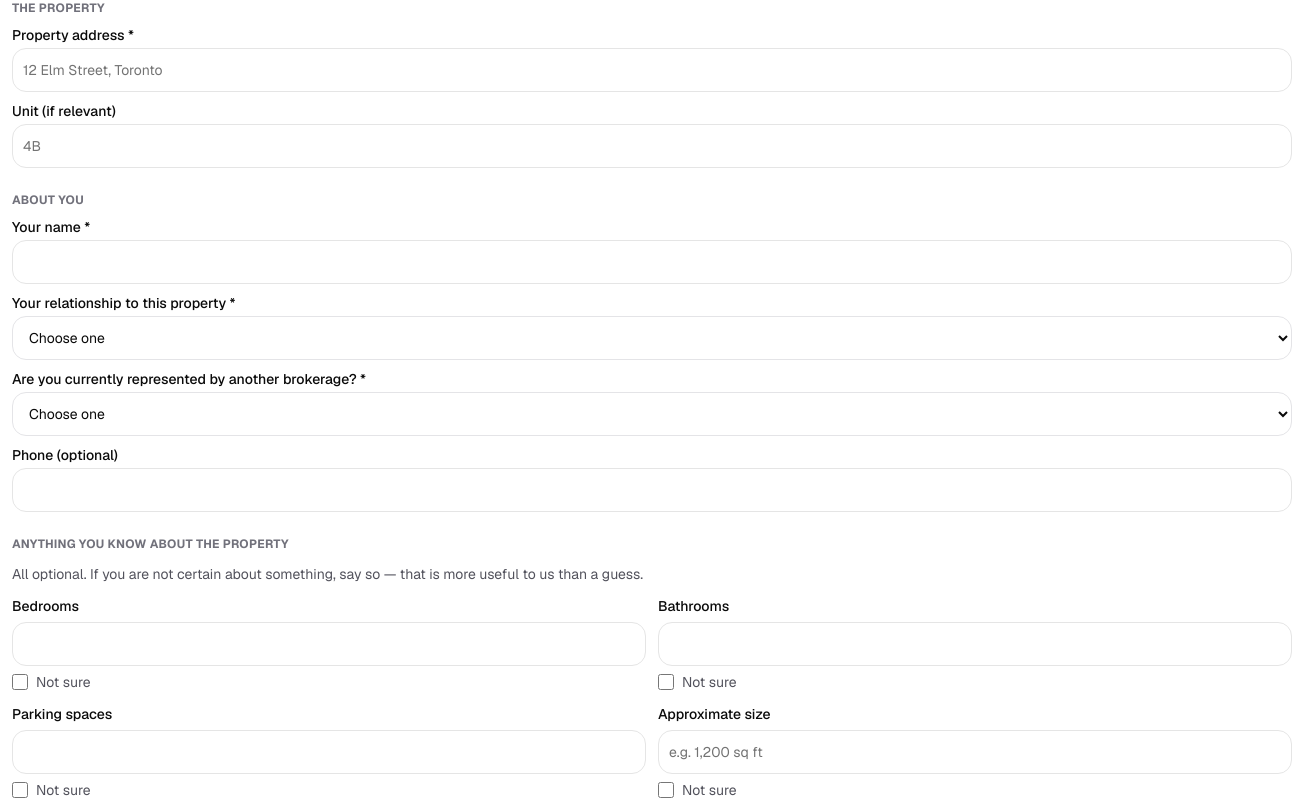
a signed-in person goes straight to the confirmation
The width and height of the screenshot is (1304, 800).
Type "12 Elm Street" into the field labelled "Property address *" at [652, 70], box x1=12 y1=48 x2=1292 y2=92
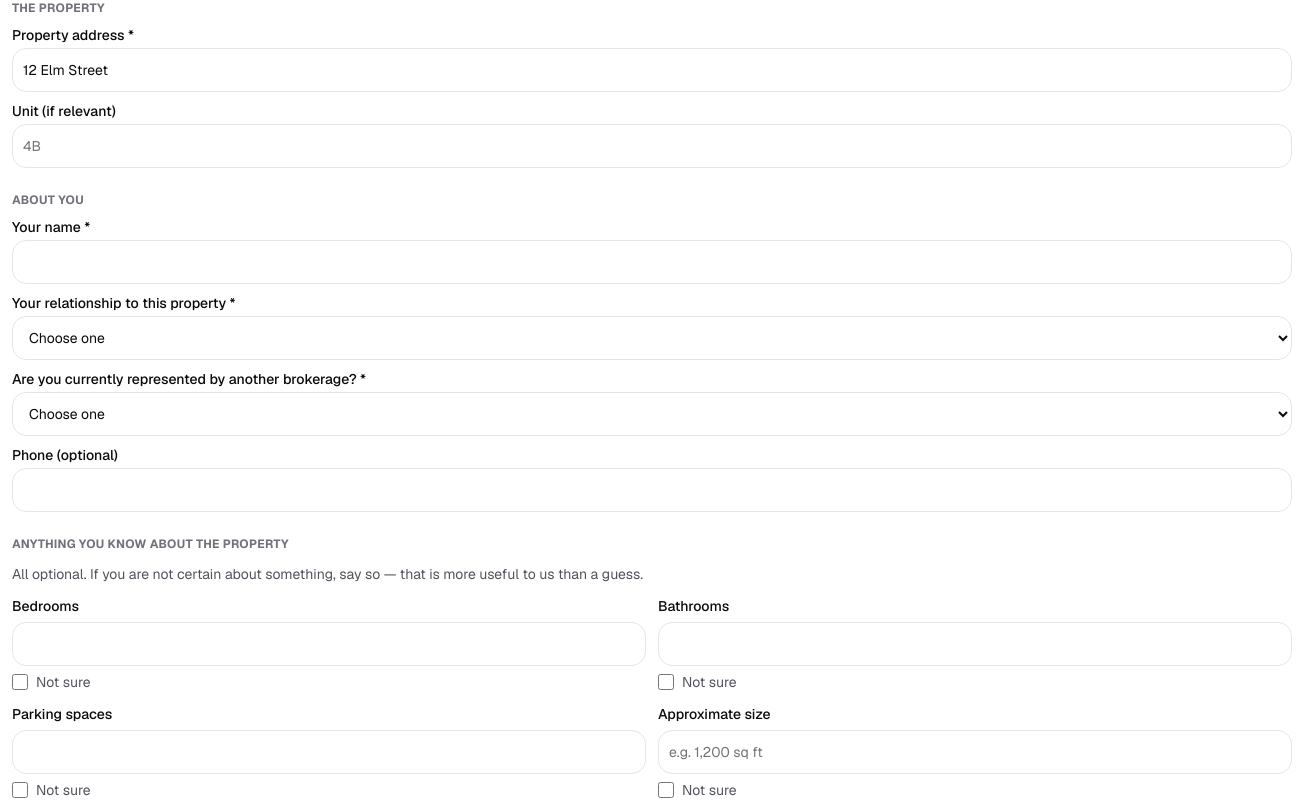
Type "Dana Okafor" into the field labelled "Your name *" at [652, 262], box x1=12 y1=240 x2=1292 y2=284
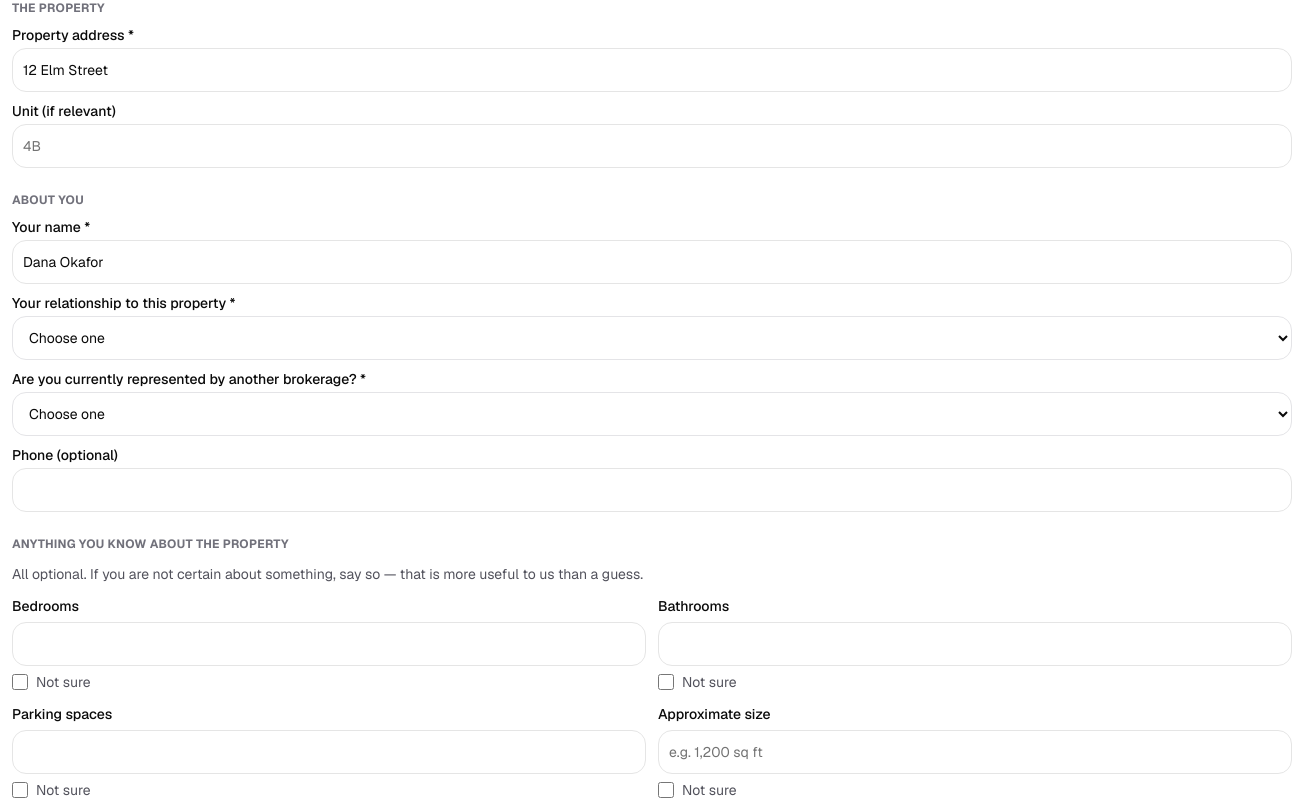
Select "I own it" in the dropdown labelled "Your relationship to this property *" at [652, 338], box x1=12 y1=316 x2=1292 y2=360
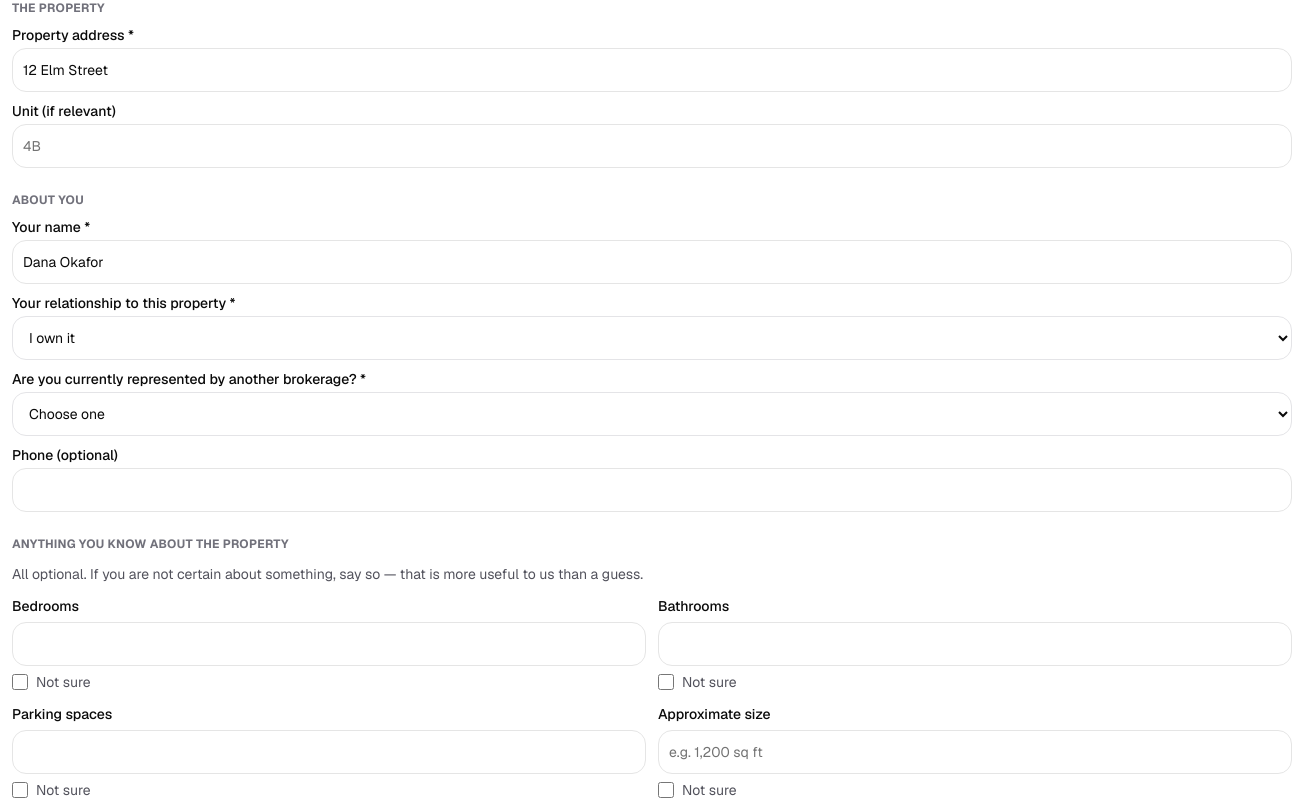
Select "Not sure" in the dropdown labelled "Are you currently represented by another brokerage? *" at [652, 414], box x1=12 y1=392 x2=1292 y2=436
(page scrolled)
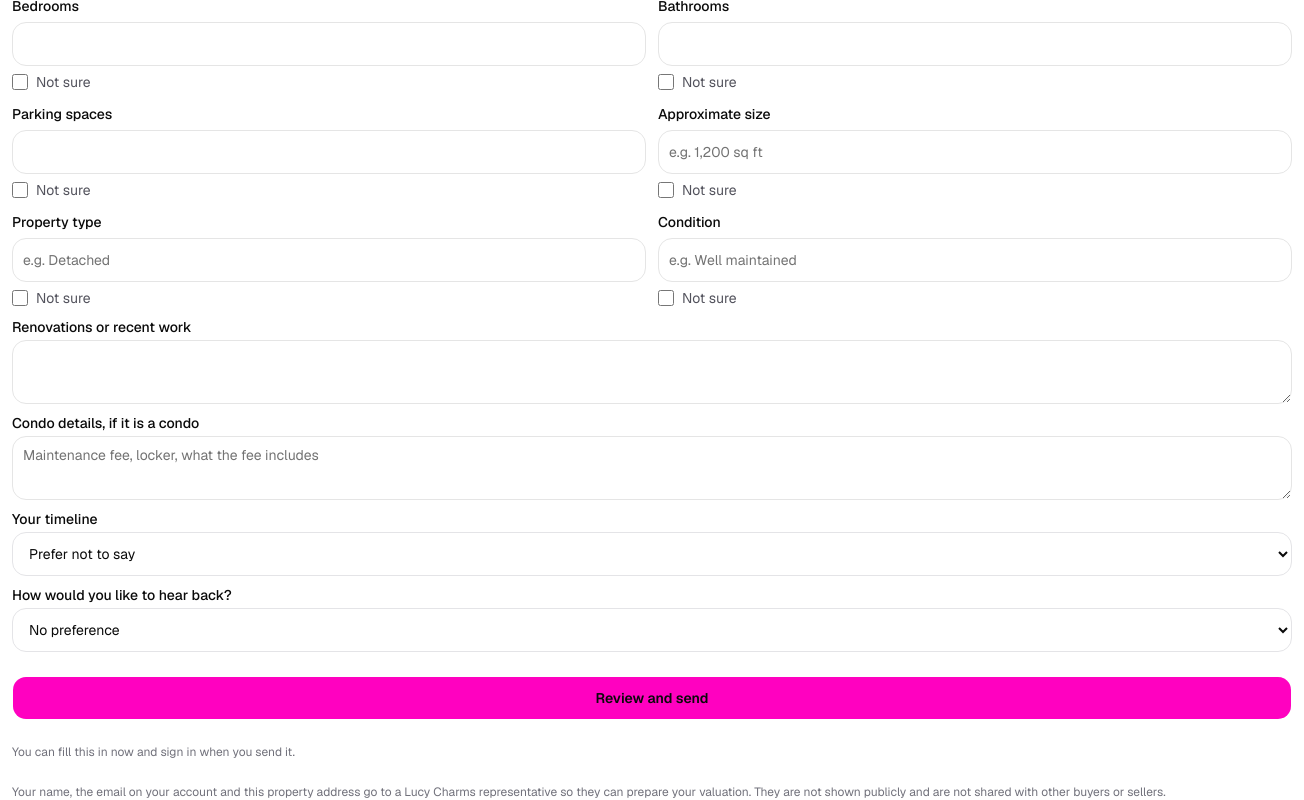
Click the button "Review and send" at [652, 698], box x1=12 y1=676 x2=1292 y2=720
(page scrolled)
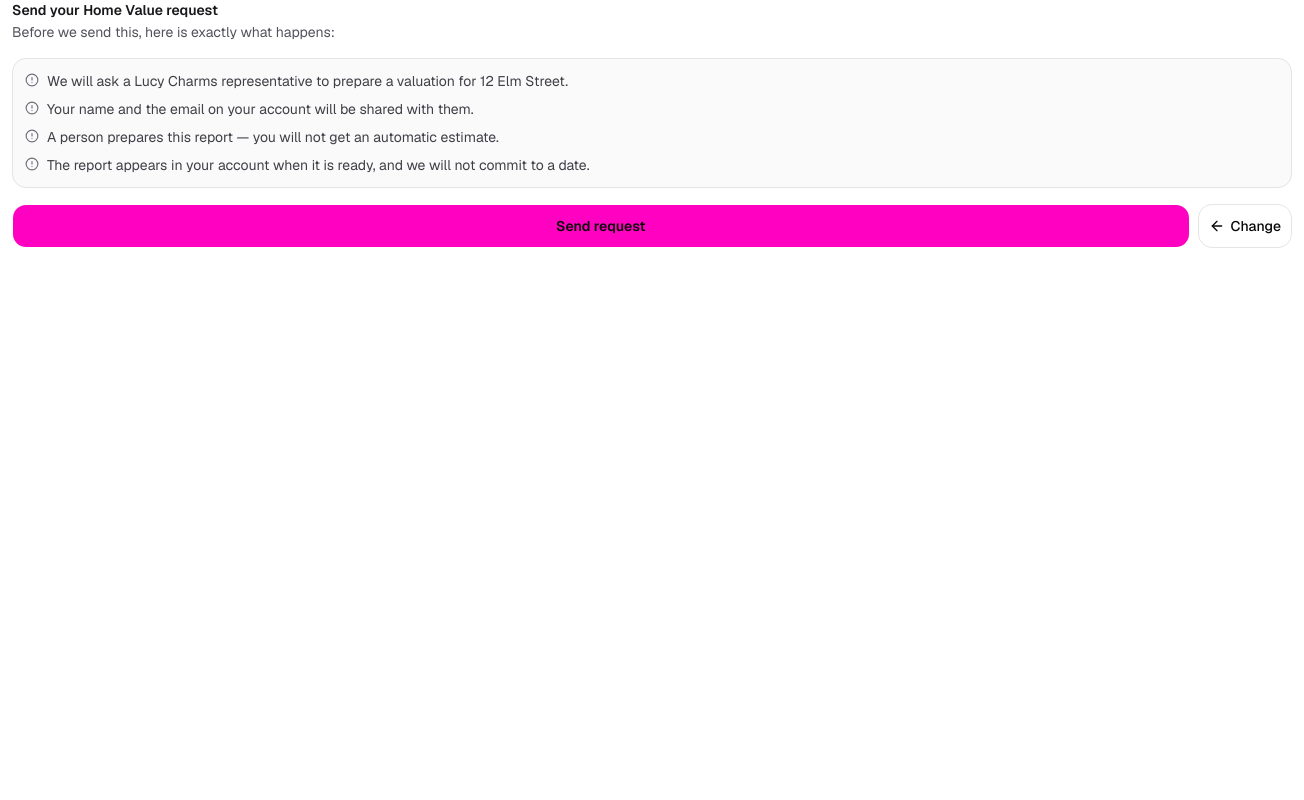
Check: the heading "Send your Home Value request" is shown, box x1=12 y1=1 x2=218 y2=19
